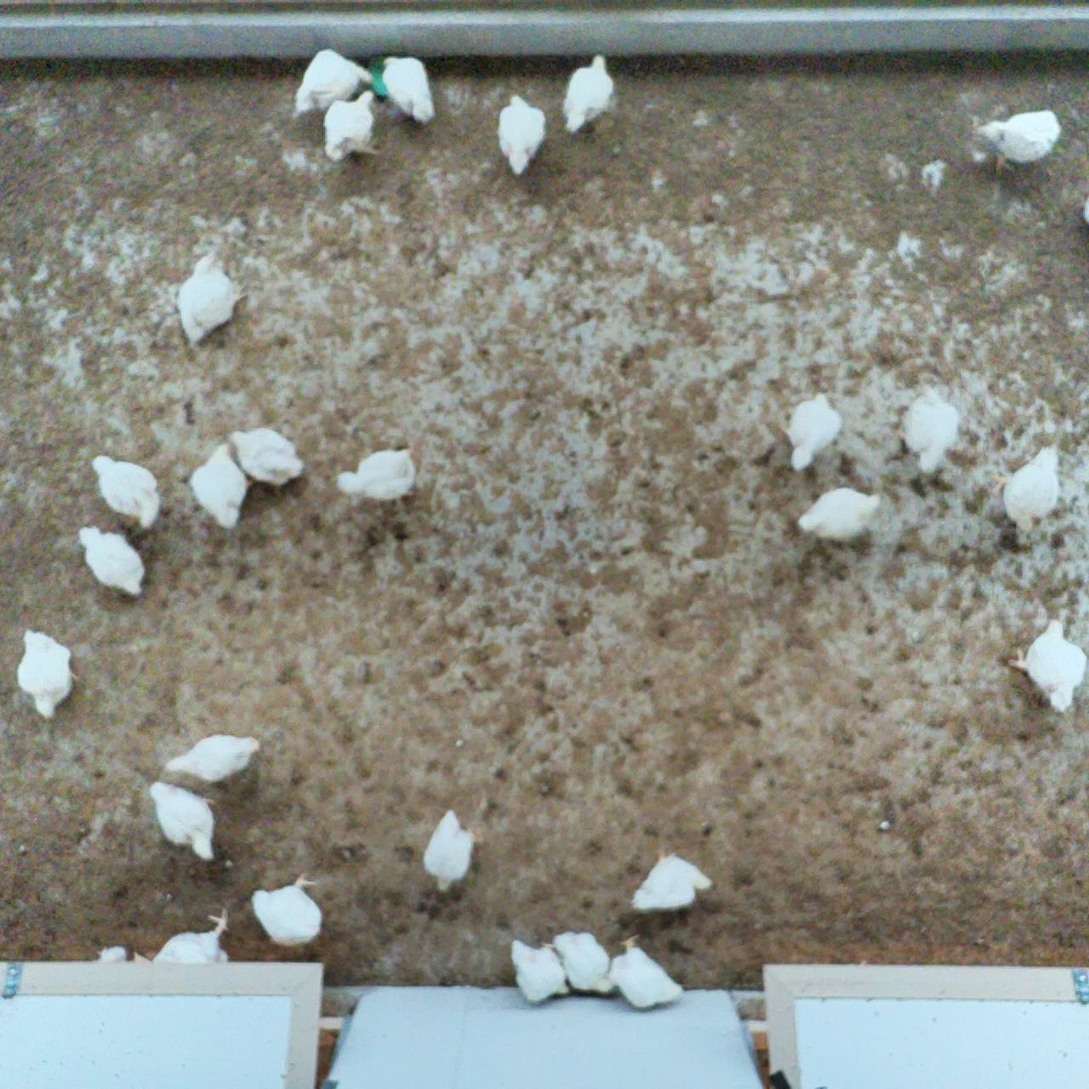chicken: (173, 245, 248, 350), (1009, 617, 1089, 714), (86, 450, 169, 538), (130, 904, 242, 969), (992, 440, 1069, 533), (186, 441, 258, 534), (147, 776, 220, 866), (11, 626, 79, 721), (248, 872, 330, 950), (607, 929, 684, 1012), (291, 46, 377, 120), (74, 521, 150, 600), (896, 384, 960, 476), (977, 106, 1062, 175), (793, 484, 886, 547), (630, 846, 714, 915), (222, 427, 309, 493), (335, 442, 420, 509), (165, 729, 262, 787), (557, 47, 618, 139), (782, 389, 847, 474), (419, 807, 478, 898), (547, 928, 619, 1001), (495, 88, 549, 180), (508, 936, 572, 1009), (323, 88, 380, 162), (379, 52, 436, 126)
